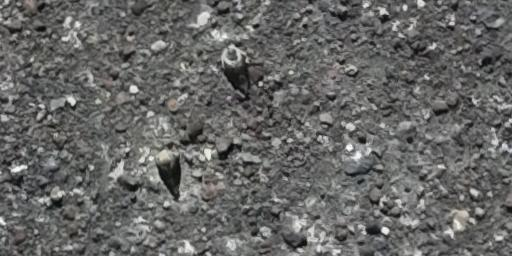skua: (215, 39, 257, 98), (151, 141, 188, 202)
